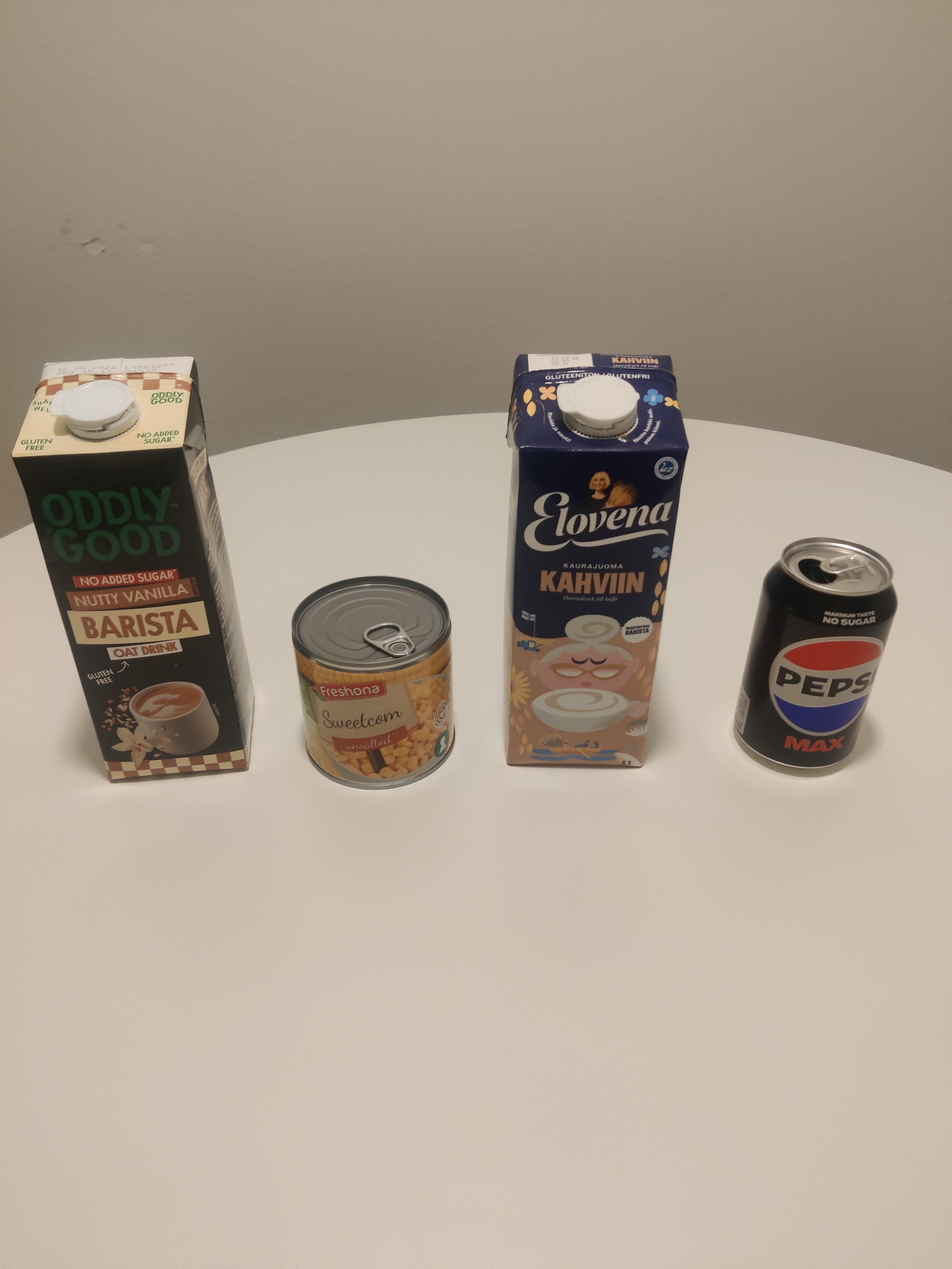Dryckeskartong: (4, 355, 249, 803), (481, 350, 693, 802)
Konservburk: (285, 562, 469, 795)
Pantburk: (732, 535, 909, 774)
